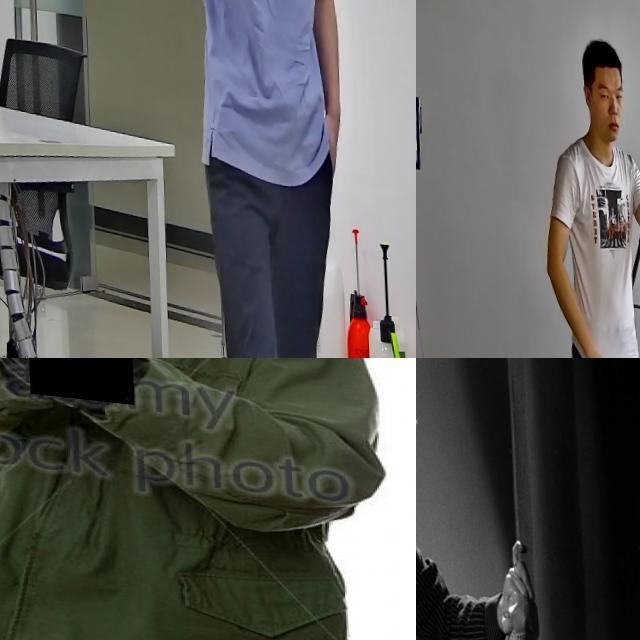gun-knife-thesis - v11 Yolov5 augmented: (23, 358, 132, 430), (158, 0, 215, 59)
